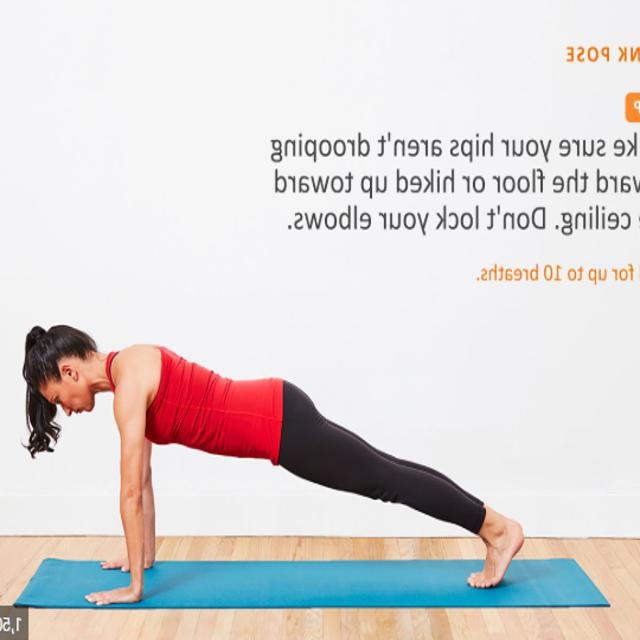Plank_Pose: (19, 315, 529, 606)
